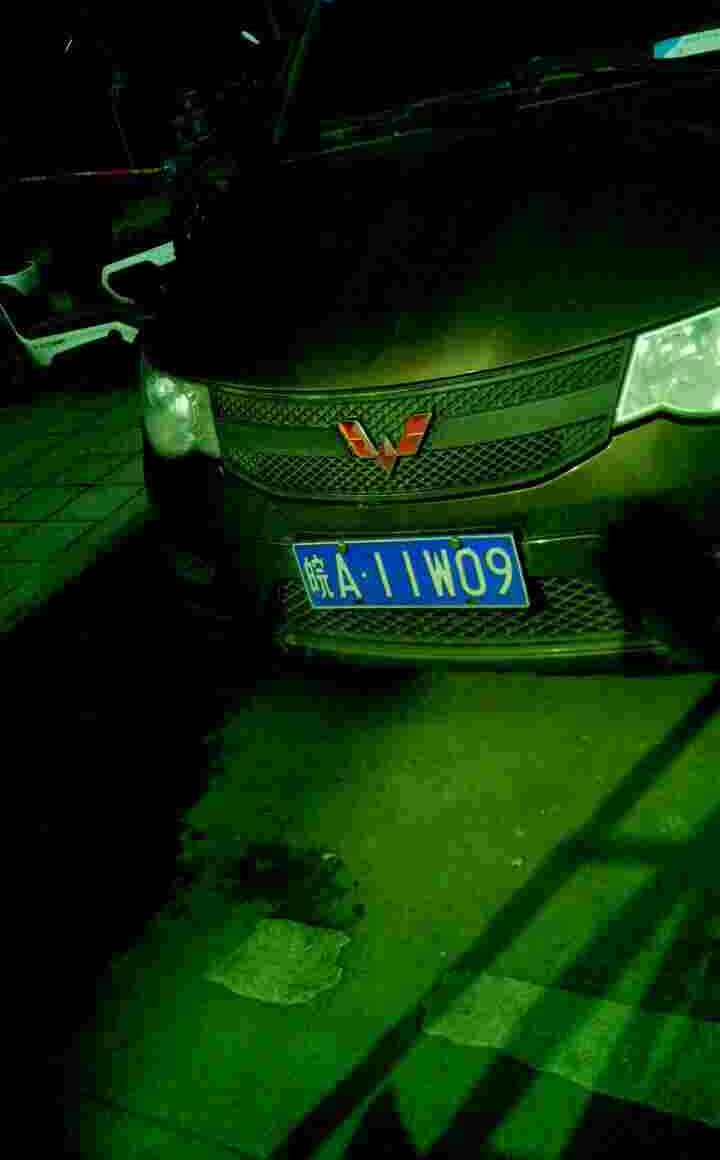license_plate: (299, 531, 522, 616)
